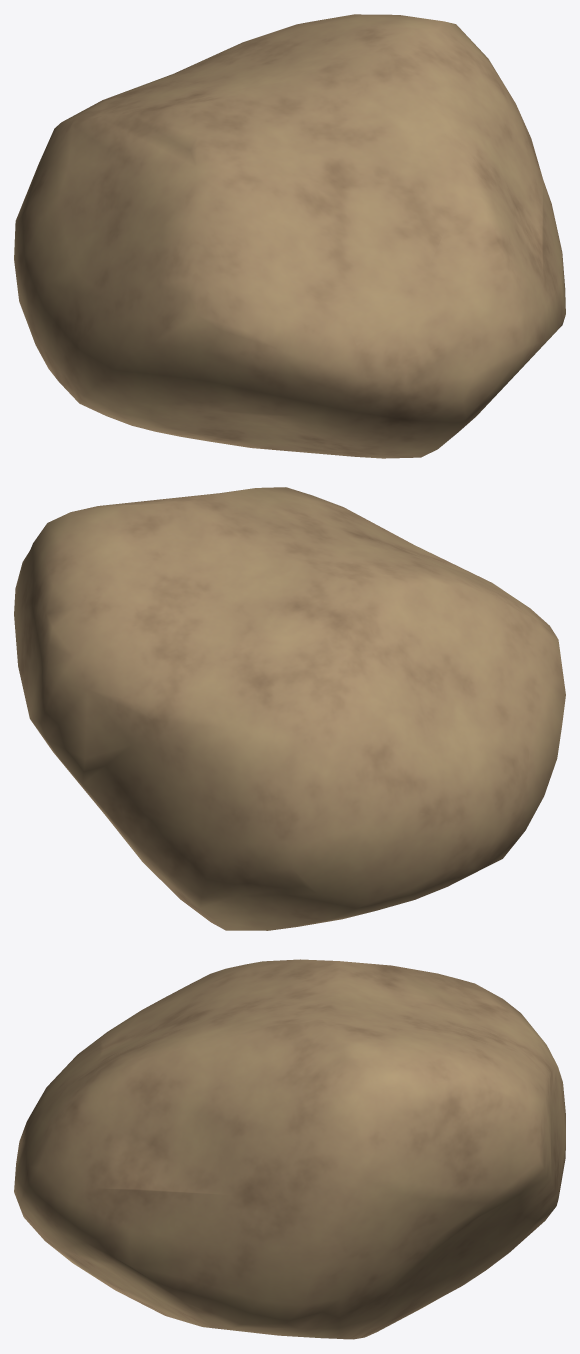
Rendered from Rock90x80x60.gltf.
The picture shows the model from 3 angles, top to bottom: view 1: azimuth 30°, elevation 25°; view 2: azimuth 150°, elevation 25°; view 3: azimuth 270°, elevation 25°; orthographic projection. The views are drawn at different scales.
Parts seen in each view (by area): view 1: Stein 90x80x60LowPoly; view 2: Stein 90x80x60LowPoly; view 3: Stein 90x80x60LowPoly.
Boxes of the visible parts, <box> form: Stein 90x80x60LowPoly: <box>14,14,565,458</box>; Stein 90x80x60LowPoly: <box>14,487,565,930</box>; Stein 90x80x60LowPoly: <box>14,959,565,1339</box>.
Bounding box in the file's own units: 0.7996 × 0.579 × 0.8466.
Materials: 1 (1 with a texture image).
